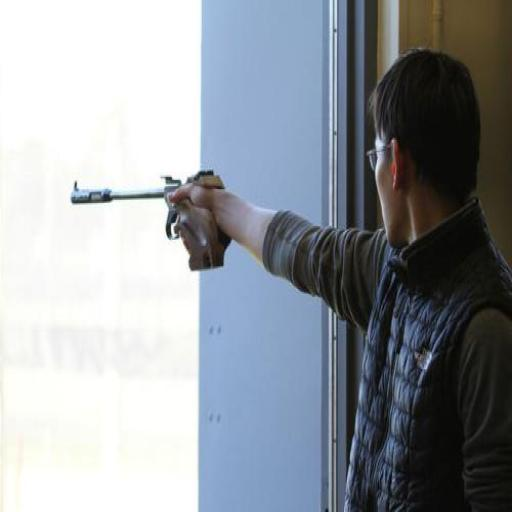shooting: (166, 44, 511, 510)
